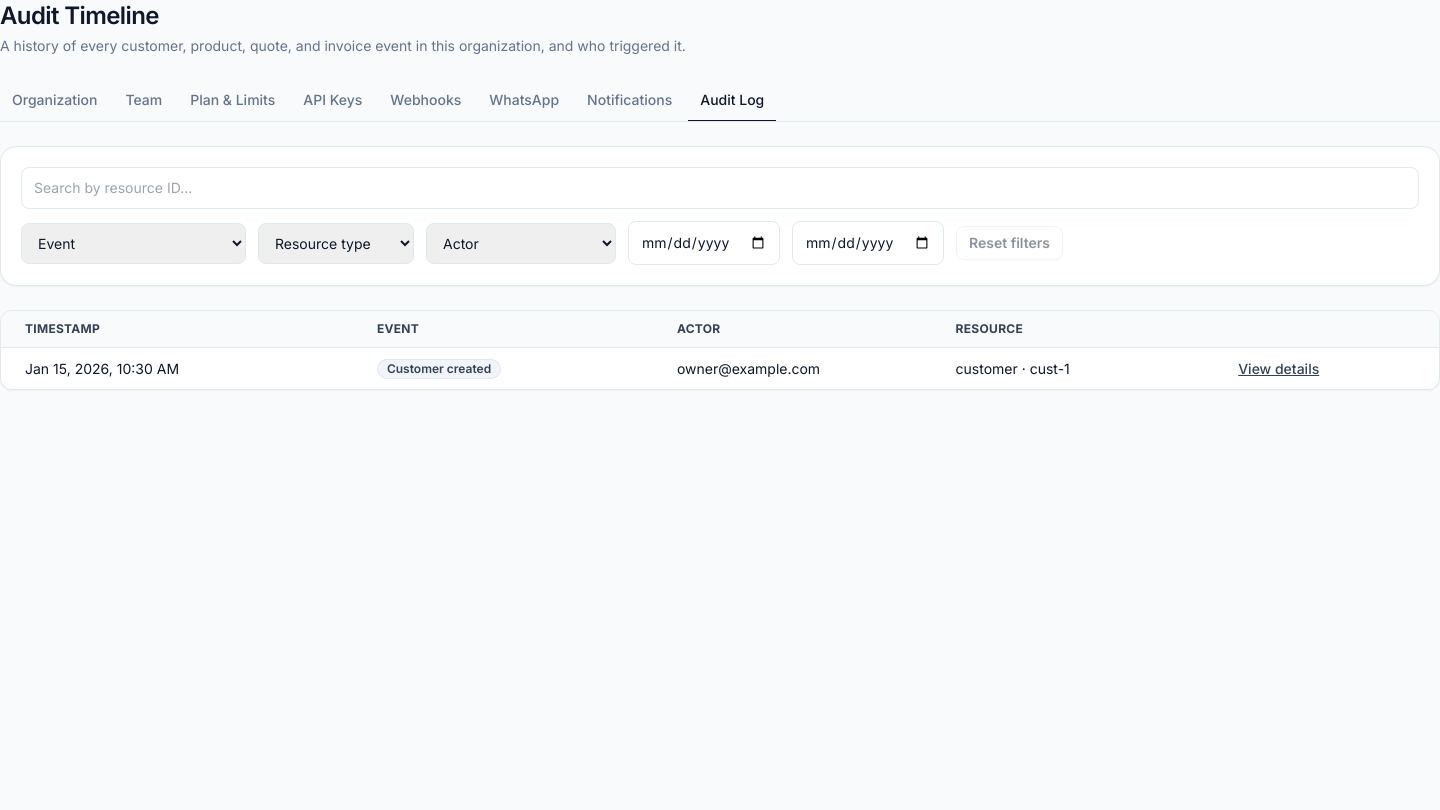
Test: SettingsAuditLogPage › opens a read-only details drawer with the event's metadata
Click the button "View details".
click(1279, 368)  # box [1238,358,1319,378]
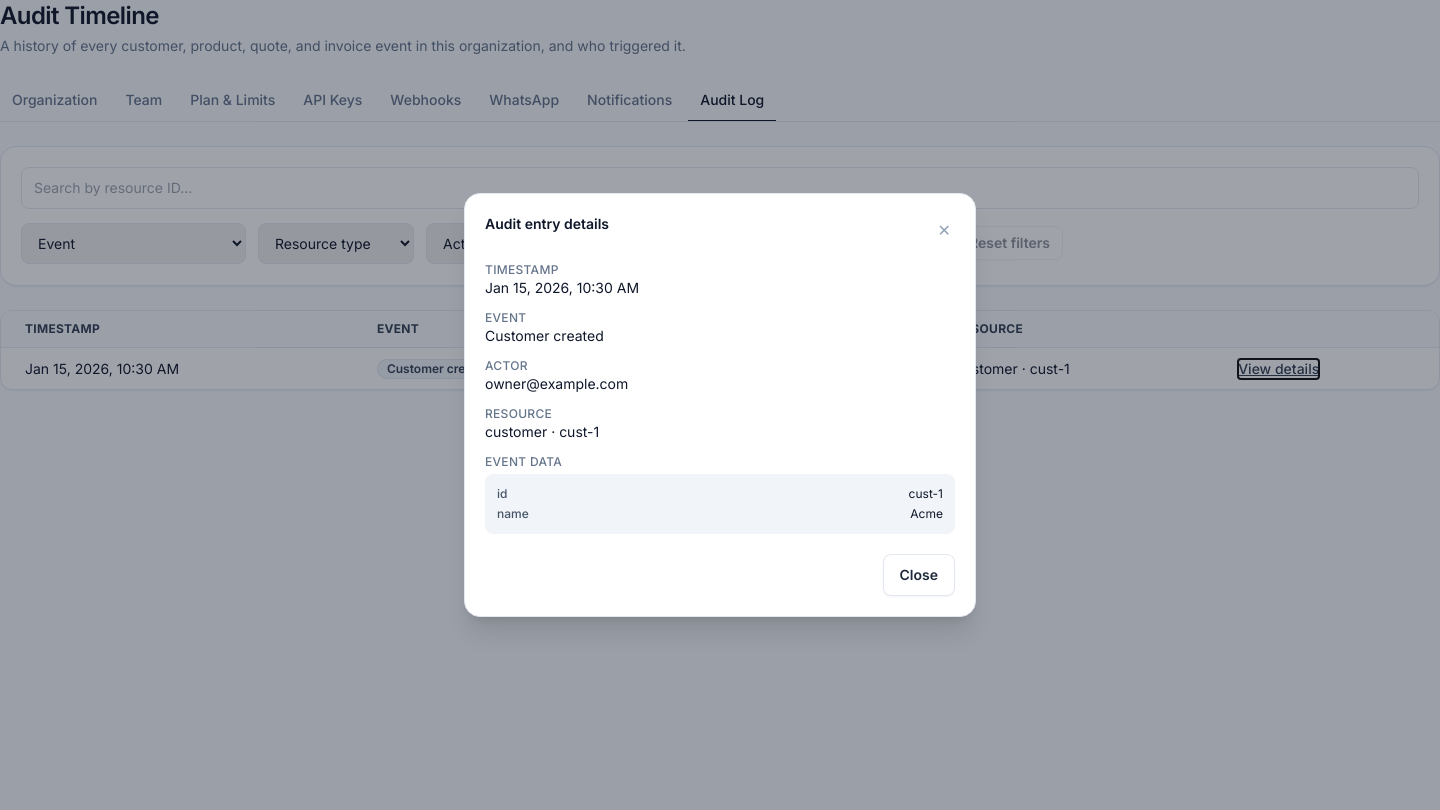
expect the heading "Audit entry details" is shown: met, box [485,214,609,234]
expect the text "name" is shown: met, box [497,506,529,522]
expect the text "Acme" is shown: met, box [910,506,943,521]
